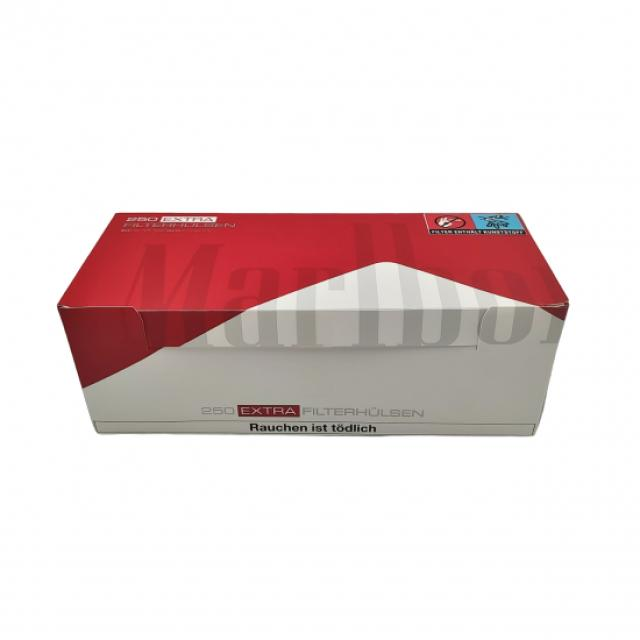marlboro: (58, 204, 576, 447)
